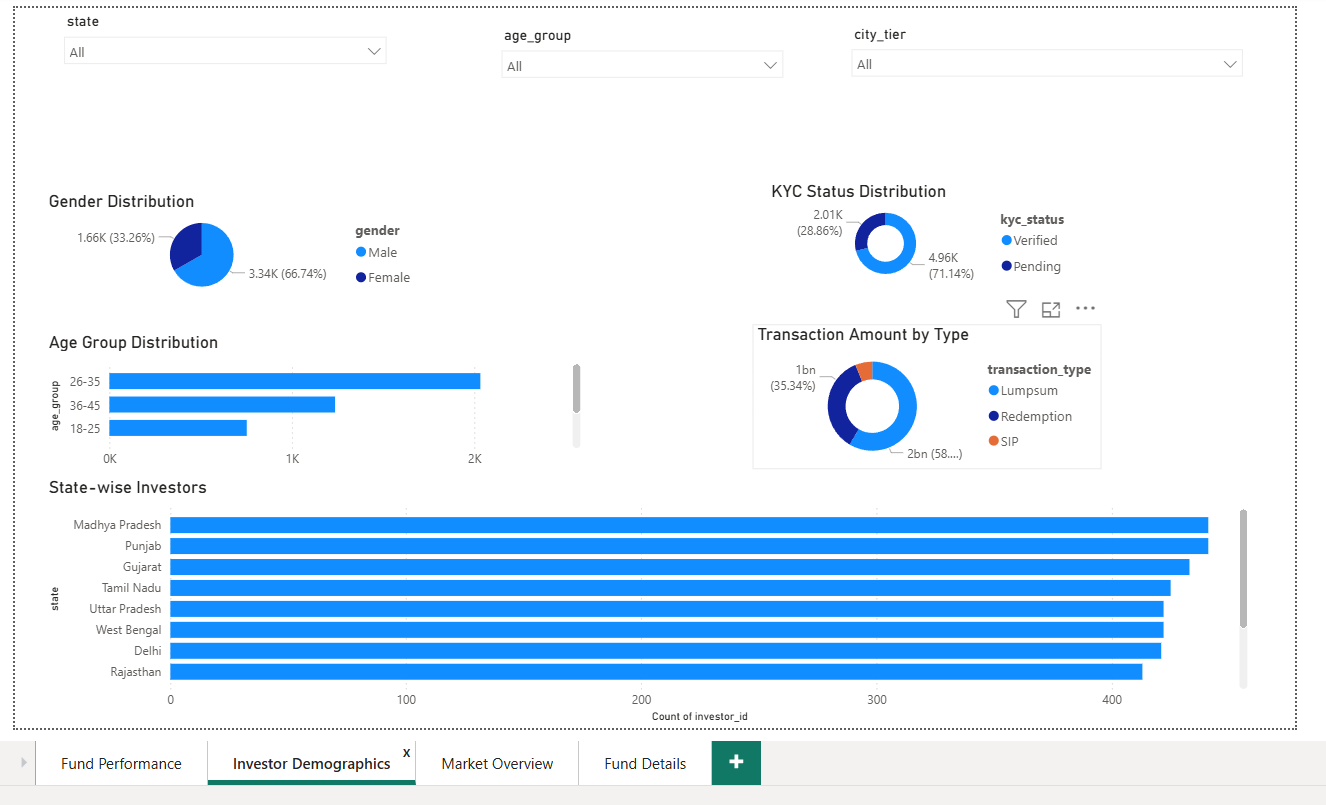

The page's visual inventory and layout, read from the dashboard file:
{"tool":"powerbi","page":{"name":"Investor Demographics","canvas":[1280,720],"ordinal":1},"visuals":[{"type":"pieChart","title":"Gender Distribution","fields":{"Category":["clean_transactions.gender"],"Y":["Count(clean_transactions.investor_id)"]},"box":[28.8,182.5,381.5,109.8],"z":0},{"type":"clusteredBarChart","title":"Age Group Distribution","fields":{"Category":["clean_transactions.age_group"],"Y":["Count(clean_transactions.investor_id)"]},"box":[28.8,323.8,542,145.5],"z":1000},{"type":"donutChart","title":"Transaction Amount by Type","fields":{"Category":["clean_transactions.transaction_type"],"Y":["Sum(clean_transactions.amount_inr)"]},"box":[738,316,348,145],"z":2000},{"type":"clusteredBarChart","title":"State-wise Investors","fields":{"Category":["clean_transactions.state"],"Y":["Count(clean_transactions.investor_id)"]},"box":[28.8,469.3,1208.9,251.1],"z":3000},{"type":"donutChart","title":"KYC Status Distribution","fields":{"Category":["clean_transactions.kyc_status"],"Y":["Count(clean_transactions.investor_id)"]},"box":[751,172,321,107],"z":4000},{"type":"slicer","fields":{"Values":["clean_transactions.state"]},"box":[38.4,0,343.1,137.2],"z":4001},{"type":"slicer","fields":{"Values":["clean_transactions.age_group"]},"box":[476.2,13.7,301.9,149.6],"z":4002},{"type":"slicer","fields":{"Values":["clean_transactions.city_tier"]},"box":[826.1,12.3,411.7,150.9],"z":4003}]}

Visuals, with their boxes on the page's 1280x720 design canvas (x1, y1, x2, y2). These are canvas units, not pixel positions in the 1326x805 screenshot, which may show the page scaled, cropped or inside an application window:
"Gender Distribution" pieChart: locate(29, 182, 410, 292)
"Age Group Distribution" clusteredBarChart: locate(29, 324, 571, 469)
"Transaction Amount by Type" donutChart: locate(738, 316, 1086, 461)
"State-wise Investors" clusteredBarChart: locate(29, 469, 1238, 720)
"KYC Status Distribution" donutChart: locate(751, 172, 1072, 279)
slicer - clean_transactions.state: locate(38, 0, 382, 137)
slicer - clean_transactions.age_group: locate(476, 14, 778, 163)
slicer - clean_transactions.city_tier: locate(826, 12, 1238, 163)
